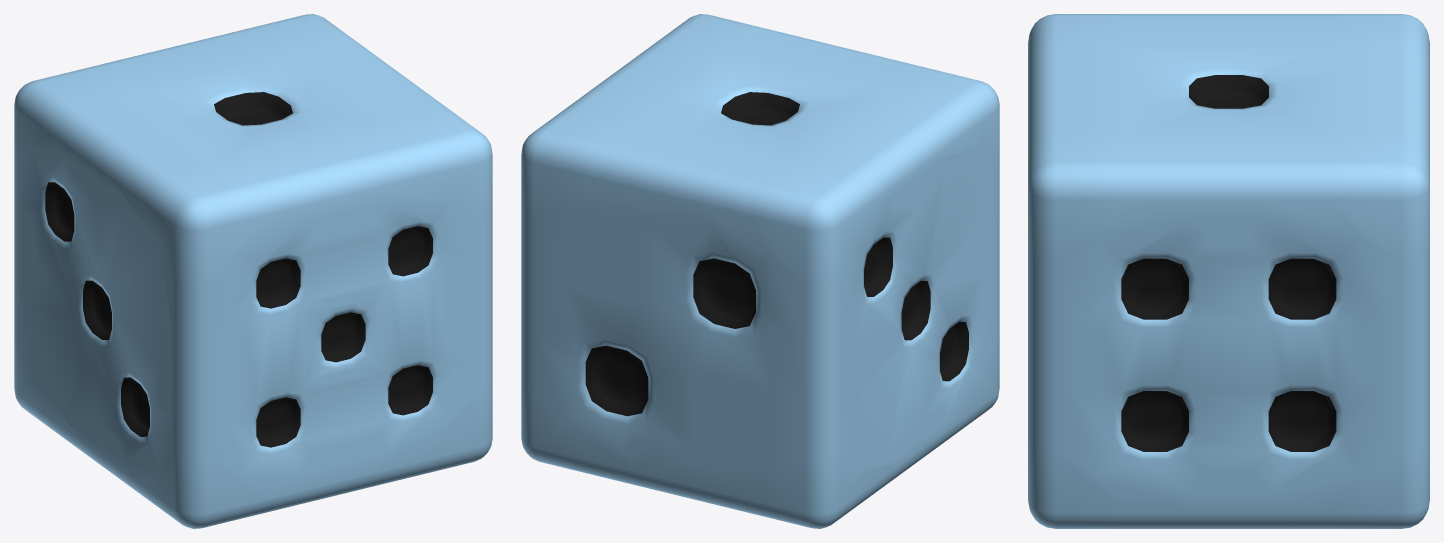
Rendered from die.glb.
The picture shows the model from 3 angles, left to right: view 1: azimuth 30°, elevation 25°; view 2: azimuth 150°, elevation 25°; view 3: azimuth 270°, elevation 25°; orthographic projection. The views are drawn at different scales.
Visible parts, largest first — view 1: Cube; view 2: Cube; view 3: Cube.
Part boxes in pixels (x1,y1,x2,y2): Cube: (14,14,492,528); Cube: (521,14,999,528); Cube: (1028,14,1429,528).
Bounding box in the file's own units: 2 × 2 × 2.
